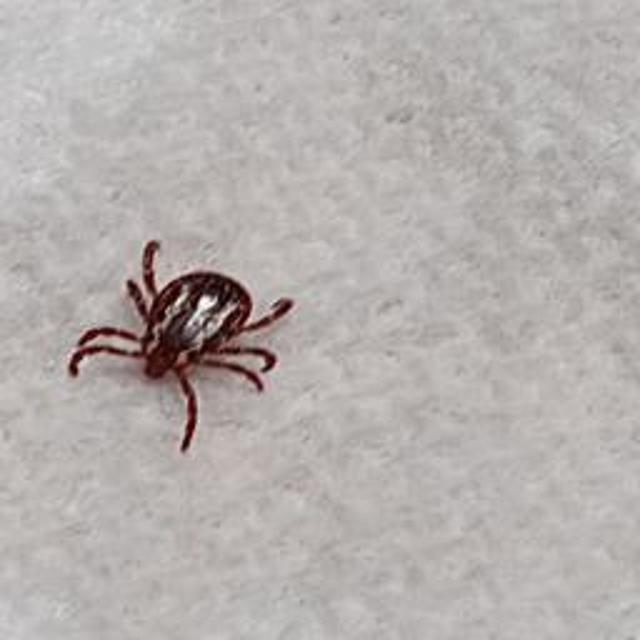Dermacentor variabilis: (67, 233, 297, 461)
